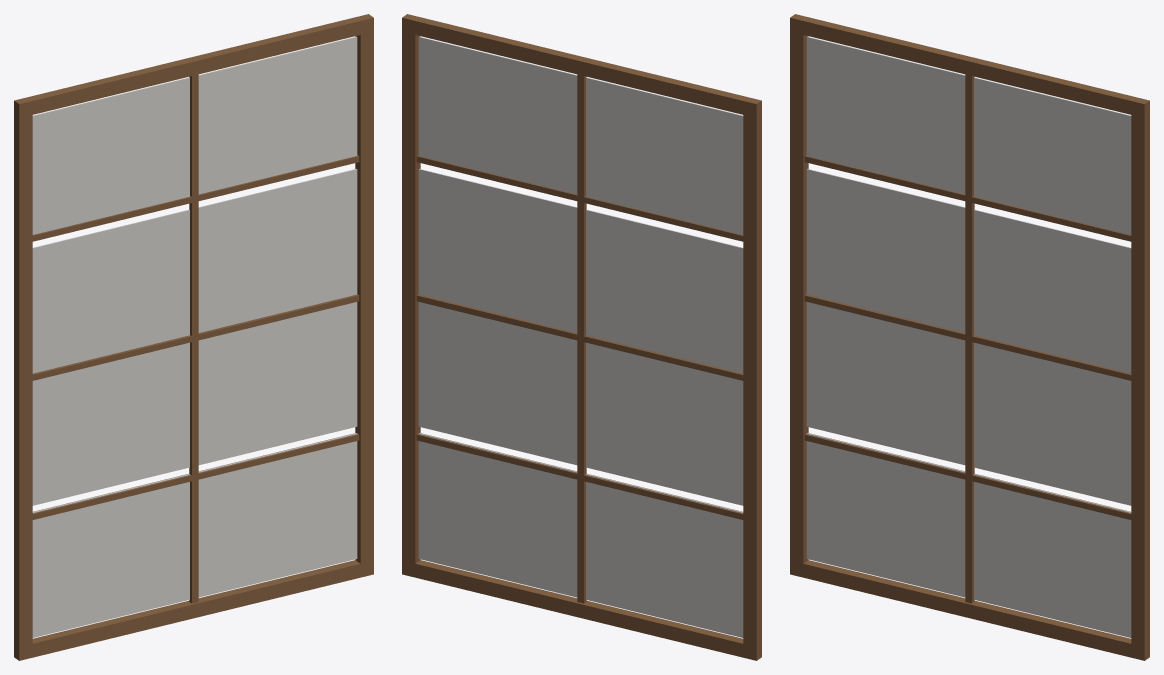
The model's file is shoji-door.glb.
The picture shows the model from 3 angles, left to right: view 1: azimuth 30°, elevation 25°; view 2: azimuth 150°, elevation 25°; view 3: azimuth 330°, elevation 25°; orthographic projection.
Visible parts, largest first — view 1: paper-0-0, frame-top; view 2: paper-0-0, frame-top; view 3: paper-0-0, frame-top.
Boxes of the visible parts, x1,y1,x2,y2 form: paper-0-0: (32,36,357,637); frame-top: (14,14,373,660); paper-0-0: (418,36,743,637); frame-top: (402,14,761,660); paper-0-0: (806,36,1131,637); frame-top: (790,14,1149,660).
Bounding box in the file's own units: 1.6 × 2.4 × 0.04.
